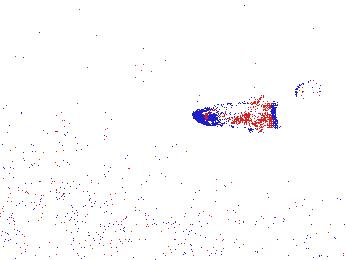redtail glassfish: (192, 92, 283, 139), (293, 76, 327, 104)
